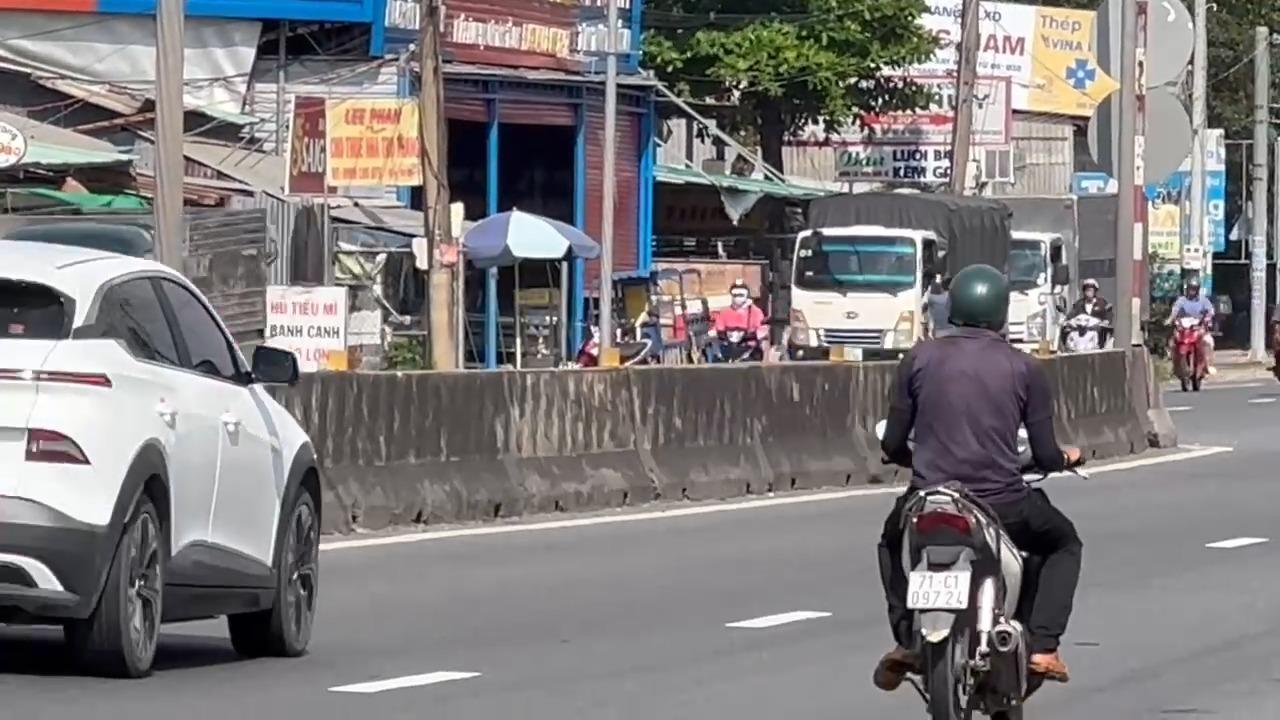bien_so: (905, 568, 971, 611)
